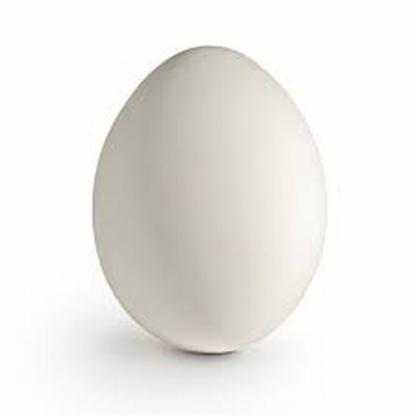egg: (89, 41, 332, 361)
